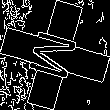M_E: (24, 26, 86, 84)
